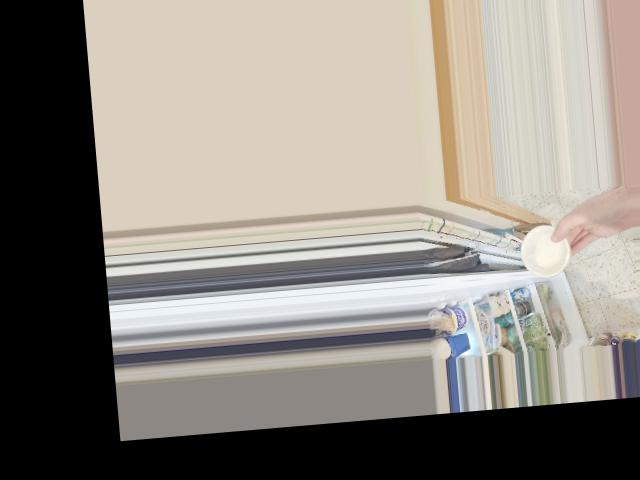cotage: (519, 226, 569, 277)
